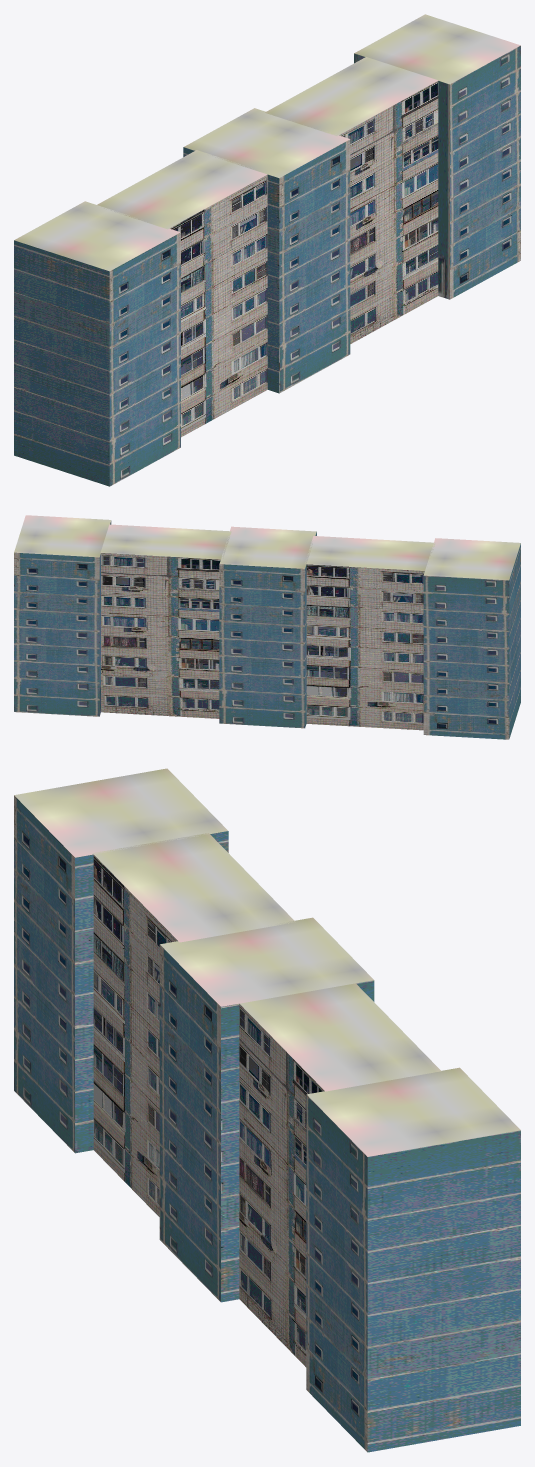
Rendered from house07.fbx.
3 renders of one model, top to bottom at view 1: azimuth 30°, elevation 25°; view 2: azimuth 150°, elevation 25°; view 3: azimuth 270°, elevation 25°, orthographic. The views are drawn at different scales.
Parts seen in each view (by area): view 1: Cube.010; view 2: Cube.010; view 3: Cube.010.
Boxes of the visible parts, x1,y1,x2,y2 form: Cube.010: (14,14,520,486); Cube.010: (14,515,520,739); Cube.010: (14,768,520,1452).
Bounding box in the file's own units: 1607 × 570 × 886.
1 material, 1 textured.
